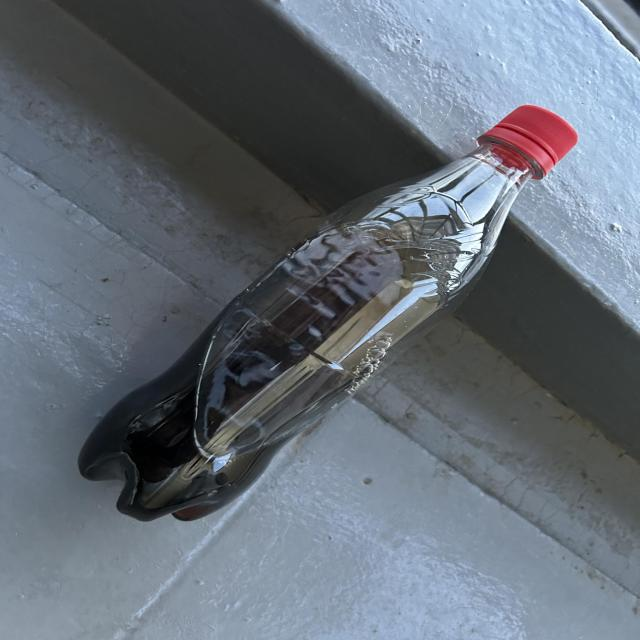medium: (79, 105, 576, 520)
